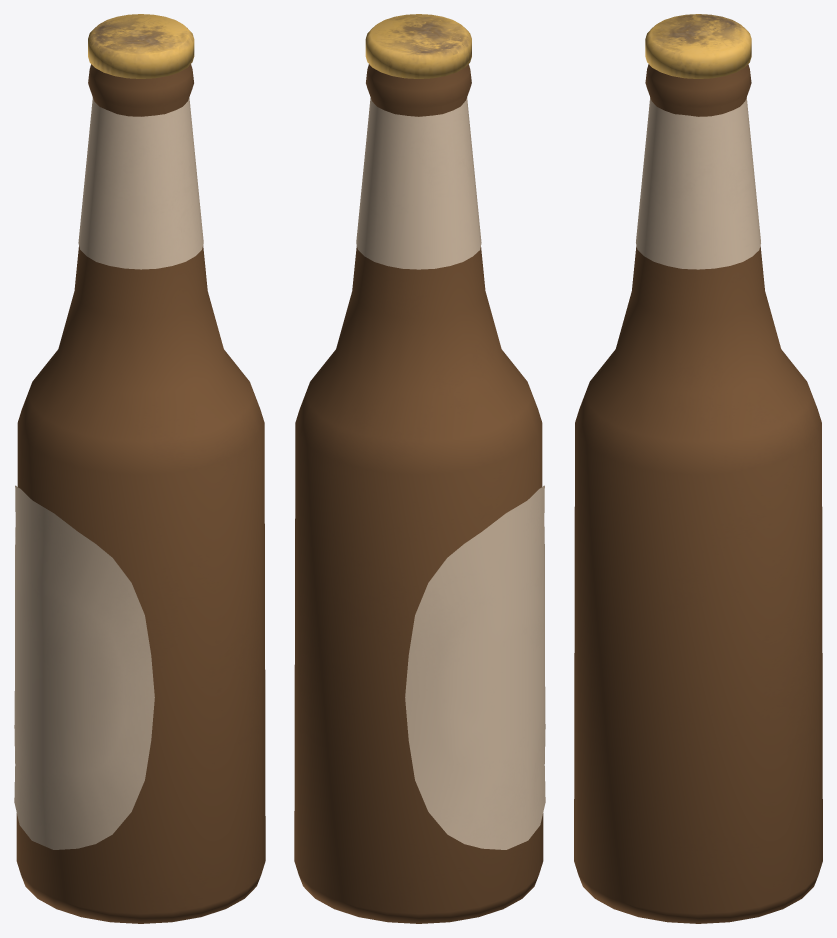
File: SM_Bottle_Beer_01.fbx
3 views of the same model, side by side, from view 1: azimuth 30°, elevation 25°; view 2: azimuth 150°, elevation 25°; view 3: azimuth 270°, elevation 25° (orthographic).
Parts seen in each view (by area): view 1: SM_Bottle_Beer_01_LOD0; view 2: SM_Bottle_Beer_01_LOD0; view 3: SM_Bottle_Beer_01_LOD0.
Part boxes in pixels (<box>): SM_Bottle_Beer_01_LOD0: <box>14,14,265,923</box>; SM_Bottle_Beer_01_LOD0: <box>294,14,545,923</box>; SM_Bottle_Beer_01_LOD0: <box>574,14,822,923</box>.
Bounding box in the file's own units: 6.11 × 6.07 × 22.59.
Materials: 1 (1 with a texture image).
